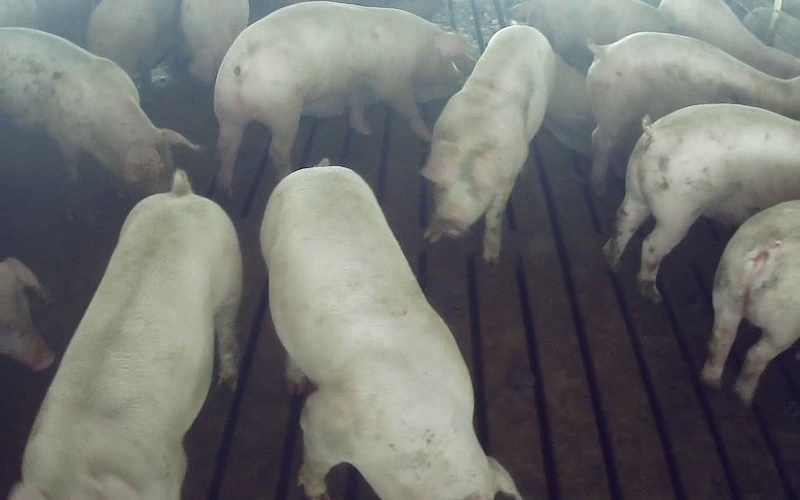pig: (261, 160, 520, 499), (13, 171, 241, 499), (214, 2, 464, 189), (604, 104, 799, 300), (587, 32, 799, 193), (423, 26, 554, 261)
